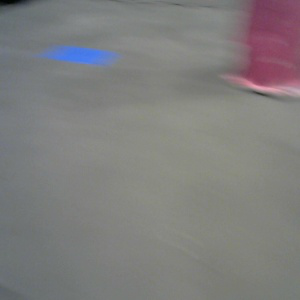Right: (221, 1, 300, 97)
